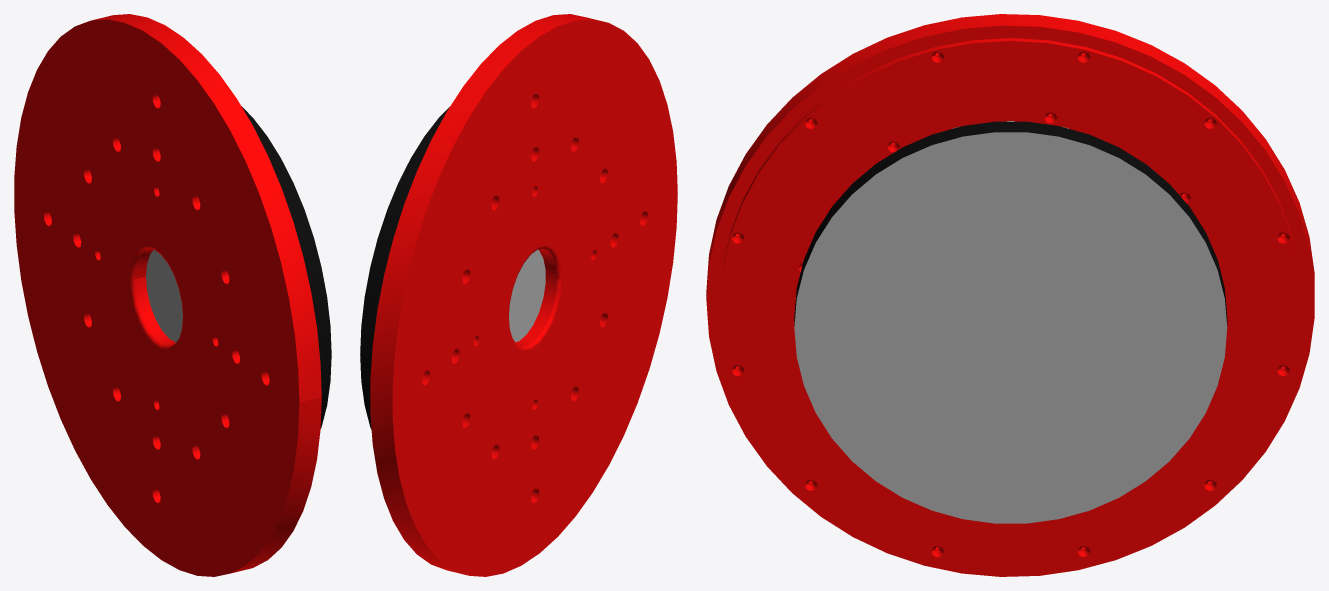
The model's file is Idler_Faceplate_P1.dae.
The picture shows the model from 3 angles, left to right: view 1: azimuth 30°, elevation 25°; view 2: azimuth 150°, elevation 25°; view 3: azimuth 270°, elevation 25°; orthographic projection. The views are drawn at different scales.
Visible parts, largest first — view 1: Node_0000029FC3431860 (×3); view 2: Node_0000029FC3431860 (×3); view 3: Node_0000029FC3431860 (×3).
Boxes of the visible parts, box(x1,y1,x2,y2) form: Node_0000029FC3431860 (×3): box(14, 14, 331, 576); Node_0000029FC3431860 (×3): box(360, 14, 677, 576); Node_0000029FC3431860 (×3): box(706, 14, 1314, 576).
Size of the model in its own units: 0.0722 by 0.4848 by 0.4845.
